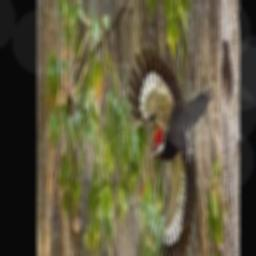Woodpecker: (124, 44, 212, 256)
